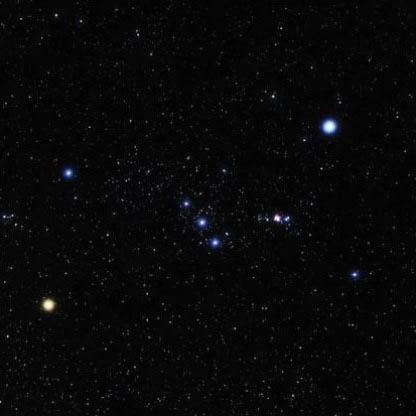Orion: (335, 260, 365, 285), (35, 290, 61, 318), (320, 113, 346, 139), (176, 190, 198, 215), (203, 235, 227, 256), (59, 160, 78, 182), (190, 216, 216, 232)
